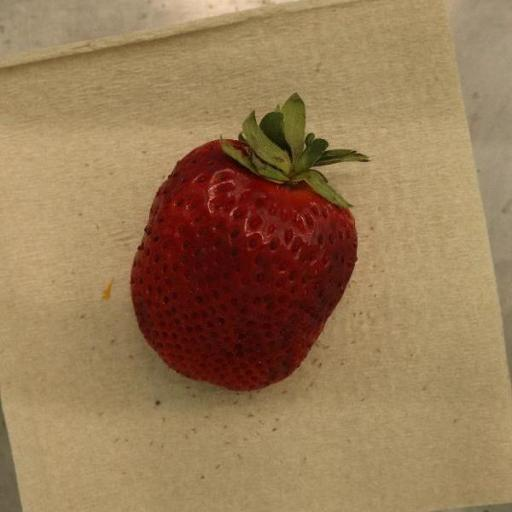Strawberry: (130, 96, 370, 392)
